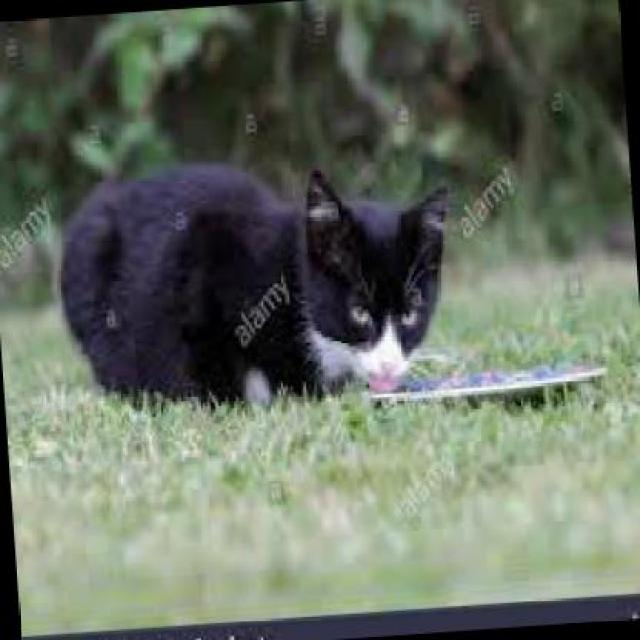animals: (37, 147, 465, 421)
